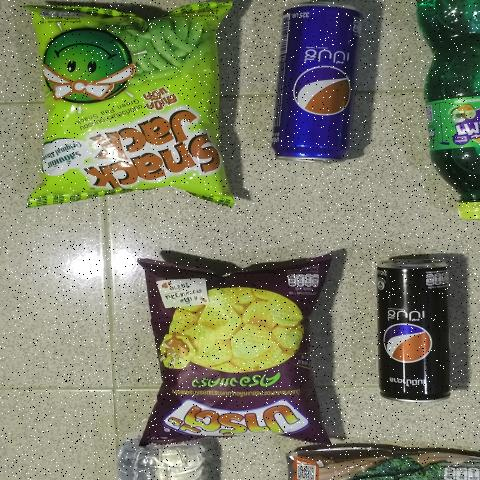fanta_green: (407, 0, 480, 225)
party_purple: (159, 274, 316, 433)
pepsi_black: (373, 258, 450, 407)
pepsi_blue: (274, 0, 360, 169)
snack_jack: (38, 5, 220, 193)
